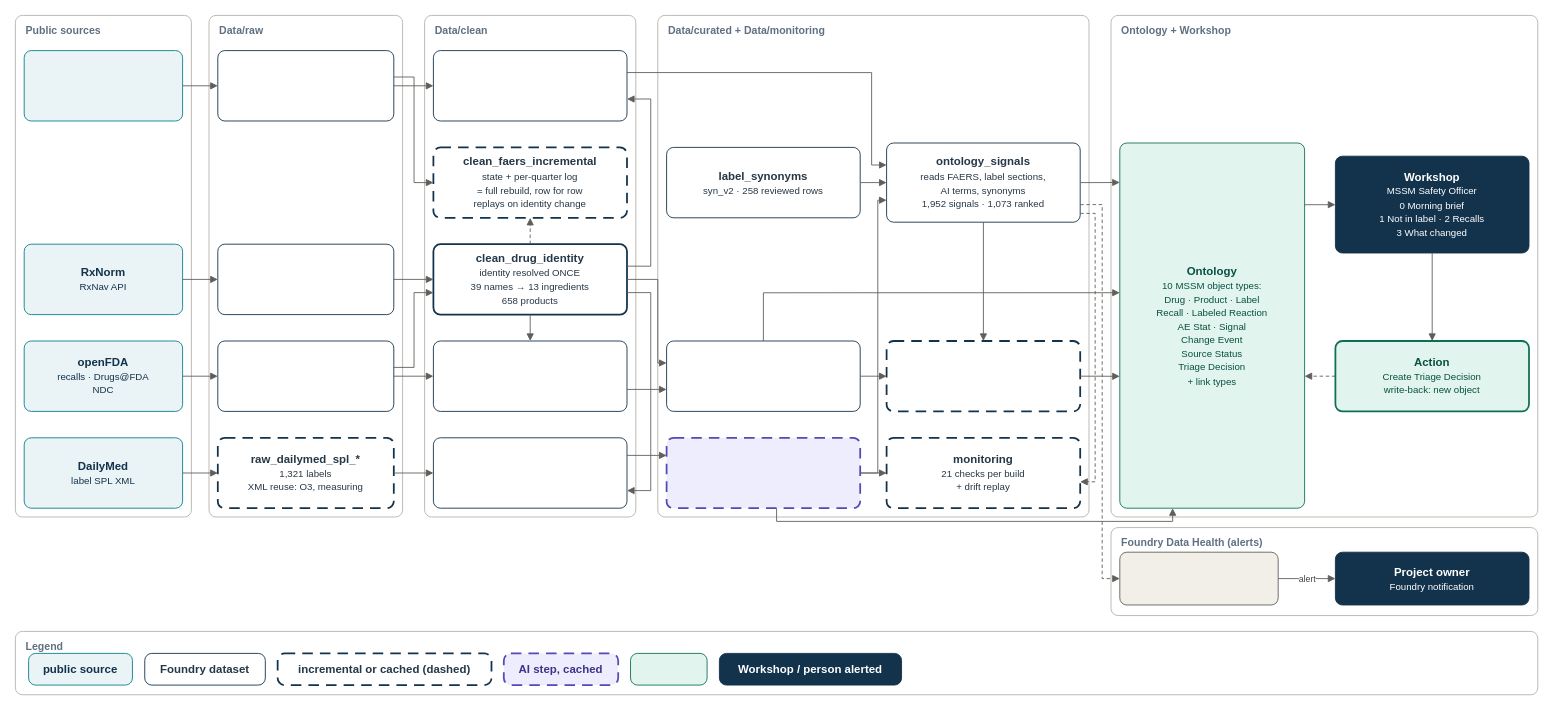
Some shapes in this 1553 by 710 pixel diagram are drawn without their labels. Each missing label, with the centre of its shape:
AI label extraction Claude Sonnet 5.5, cached 448 / 448 quotes grounded: (x=763, y=472)
clean_faers (full) 792,346 current cases feeds signals (D044): (x=530, y=85)
clean_labels 1,321 versions 5,431 safety sections: (x=530, y=472)
clean_recalls 900 recalls · 126 active + product match: (x=530, y=375)
Data Health: 4 checks build status + primary key: (x=1198, y=578)
FAERS quarterly files 2026Q1 + Q2: (x=103, y=85)
Ontology: (x=668, y=669)
ontology_changes 2,898 change events + source as-of: (x=983, y=376)
ontology_objects drugs · products · labels recalls · link tables: (x=763, y=375)
raw_faers_quarter_* 37 files + manifest: (x=305, y=85)
raw_openfda_* 930 · 663 · 1,824 rows: (x=305, y=375)
raw_rxnorm_* 13 ingredients: (x=305, y=279)
